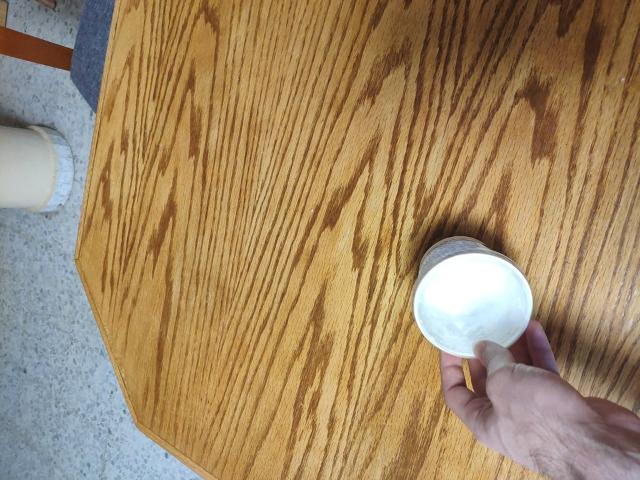cotage: (394, 239, 552, 376)
